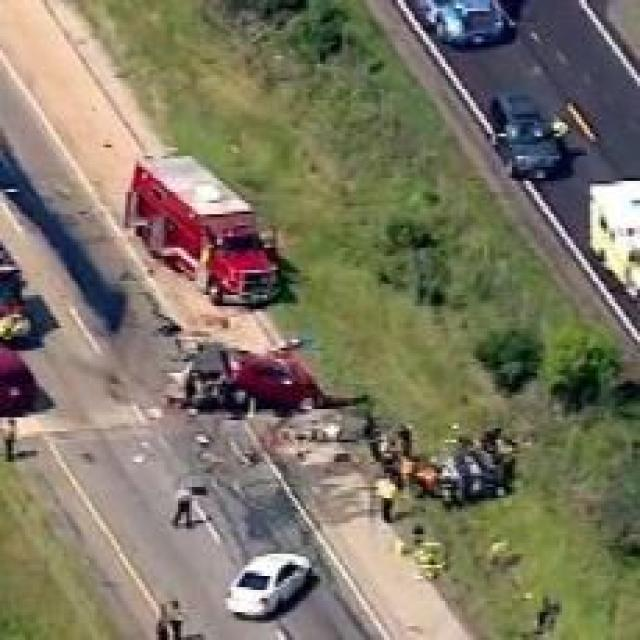traffic_incident: (161, 328, 320, 415), (378, 417, 520, 504)
